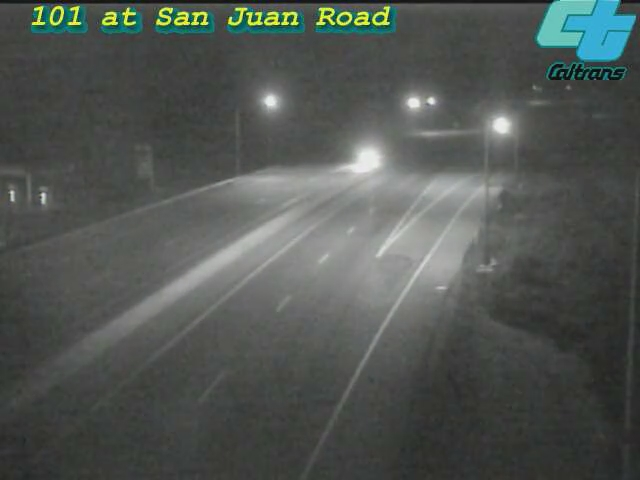vehicle: (343, 135, 393, 185), (474, 101, 524, 151)
